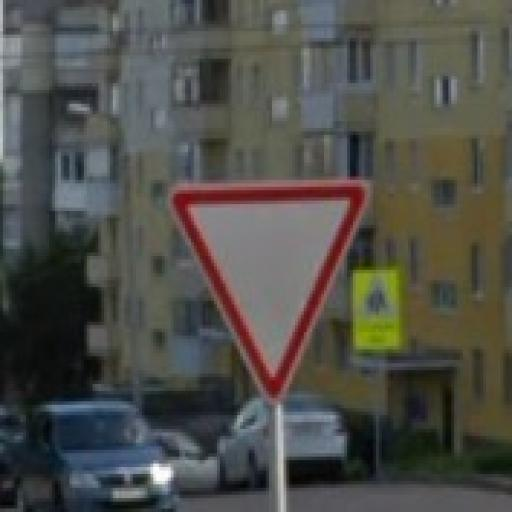traffic_sign: (169, 181, 371, 402)
